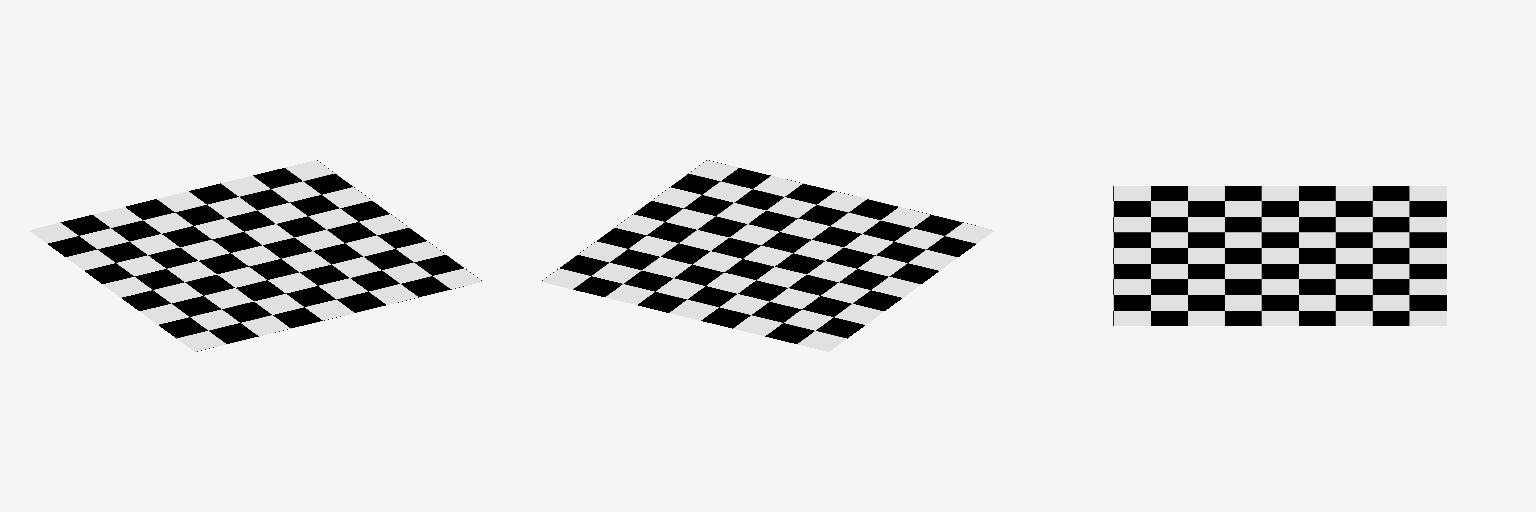
3 renders of one model, left to right at view 1: azimuth 30°, elevation 25°; view 2: azimuth 150°, elevation 25°; view 3: azimuth 270°, elevation 25°, orthographic.
Parts seen in each view (by area): view 1: Plane; view 2: Plane; view 3: Plane.
Boxes of the visible parts, x1=… form: Plane: x1=29, y1=160, x2=482, y2=351; Plane: x1=541, y1=160, x2=994, y2=351; Plane: x1=1113, y1=186, x2=1446, y2=325.
Size of the model in its own units: 2 by 0 by 2.
Materials: 1 (1 with a texture image).